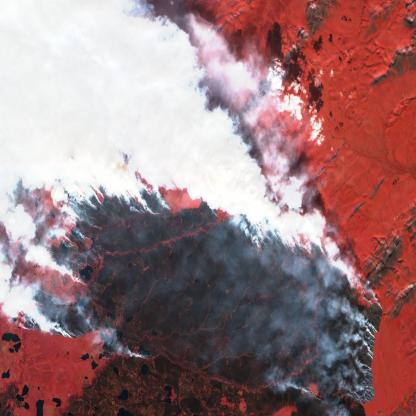fire: (20, 172, 385, 408)
